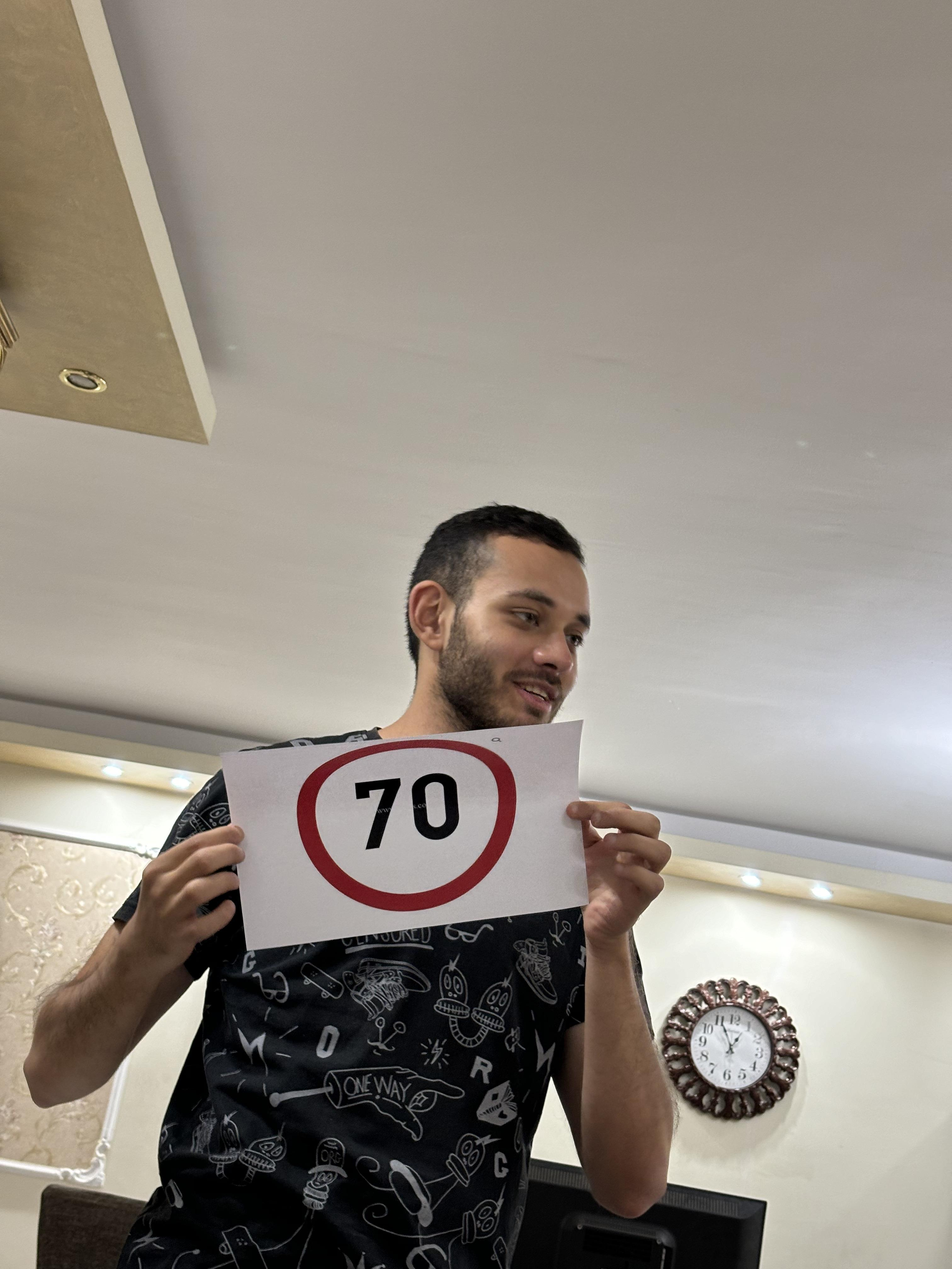70-Speed: (291, 737, 530, 916)
